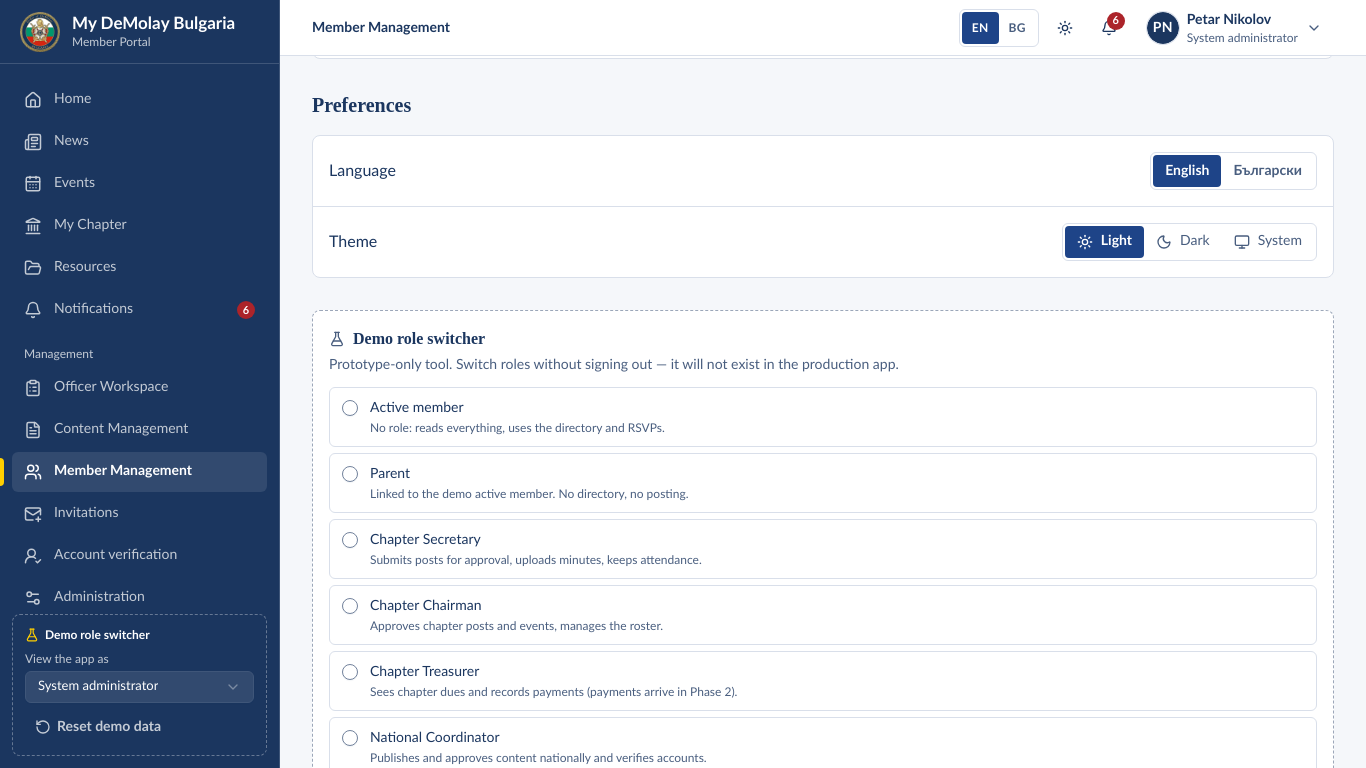
Scenario: Demo role switcher › leaves a page the new role cannot open
(page scrolled)
Click the 1st radio button named "Active member".
click(350, 408)  # box [342,400,358,416]
(page scrolled)
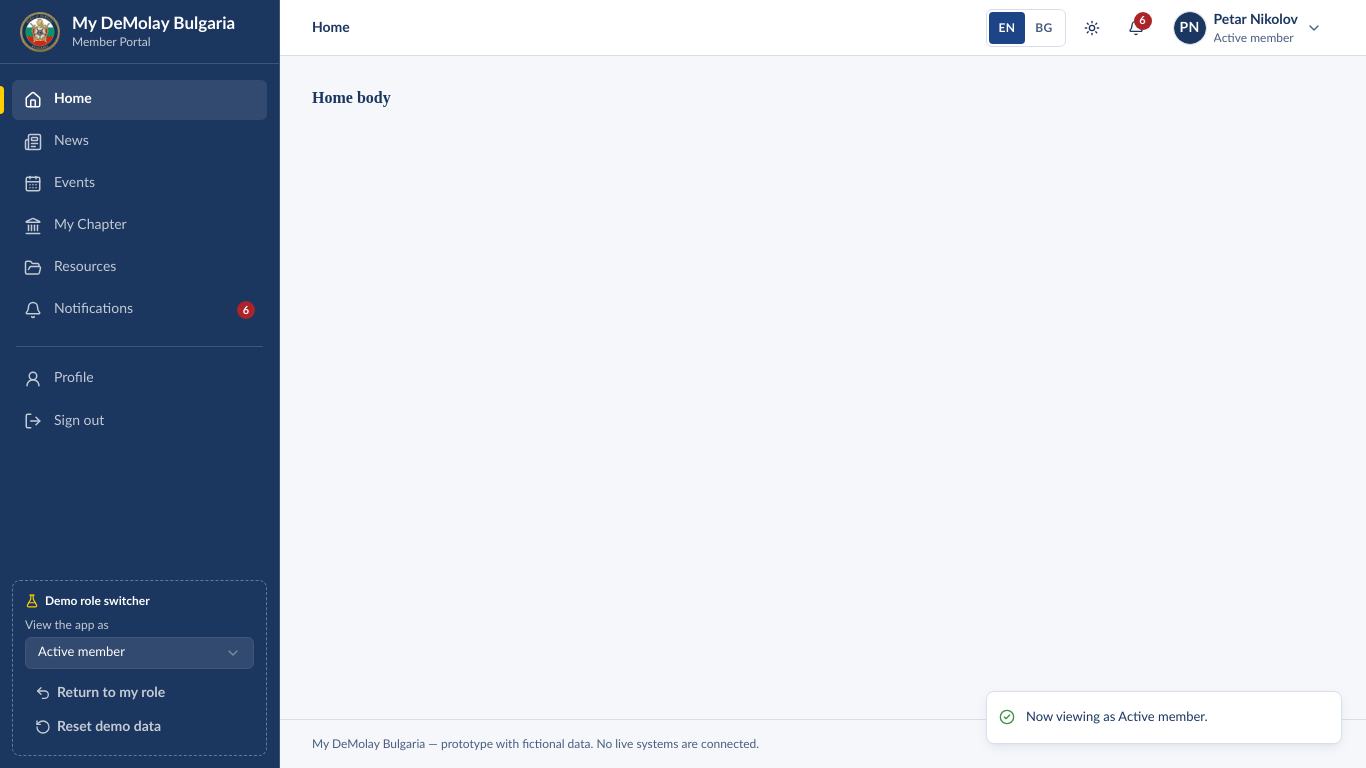
Now the heading "Home body" is shown, box [312,89,391,106]
Now the link "Member Management" is gone
